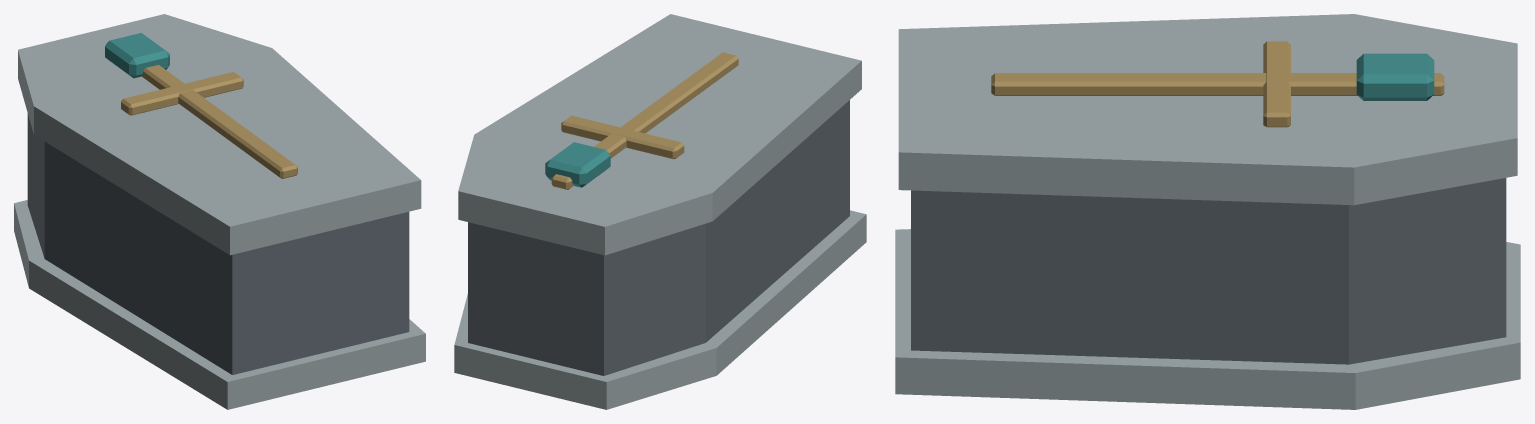
File: 06_Stone_Sarcophagus.glb
The picture shows the model from 3 angles, left to right: view 1: azimuth 30°, elevation 25°; view 2: azimuth 150°, elevation 25°; view 3: azimuth 270°, elevation 25°; orthographic projection. The views are drawn at different scales.
Parts seen in each view (by area): view 1: 06_Stone_Sarcophagus__Body, 06_Stone_Sarcophagus__Lid; view 2: 06_Stone_Sarcophagus__Body, 06_Stone_Sarcophagus__Lid; view 3: 06_Stone_Sarcophagus__Body, 06_Stone_Sarcophagus__Lid.
Part boxes in pixels (x1,y1,x2,y2): 06_Stone_Sarcophagus__Body: (14, 113, 425, 409); 06_Stone_Sarcophagus__Lid: (18, 14, 421, 255); 06_Stone_Sarcophagus__Body: (454, 100, 866, 409); 06_Stone_Sarcophagus__Lid: (458, 14, 861, 255); 06_Stone_Sarcophagus__Body: (895, 178, 1520, 409); 06_Stone_Sarcophagus__Lid: (898, 14, 1517, 205).
Bounding box in the file's own units: 2.04 × 1.59 × 3.38.
1 material, 1 textured.
